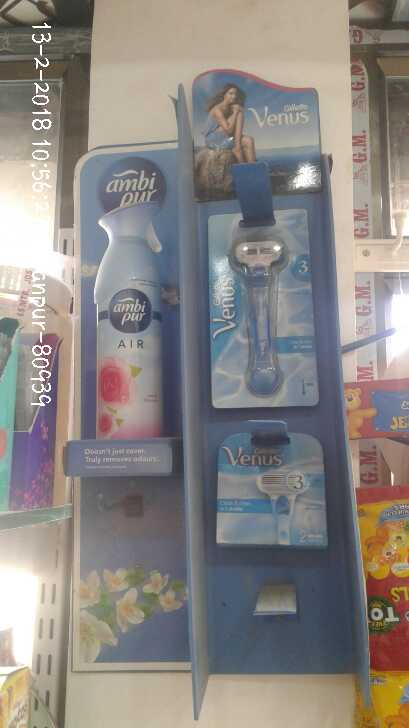beauty: (206, 225, 319, 409), (209, 425, 331, 552)
home: (84, 192, 173, 443)
